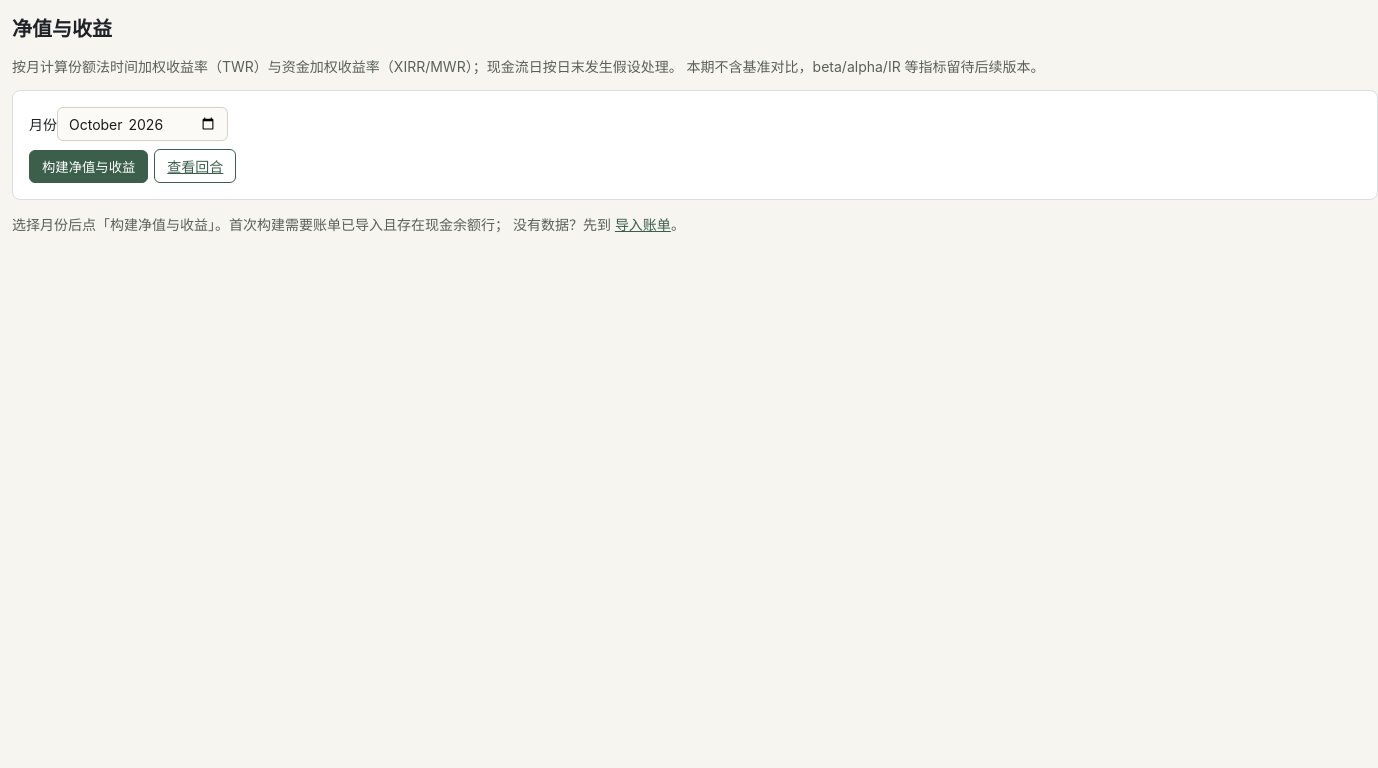
Scenario: Nav 净值与收益页 › 存在阻断点时才展示阻断列
Click the button "构建净值与收益": point(89, 166) [29,150,148,183]
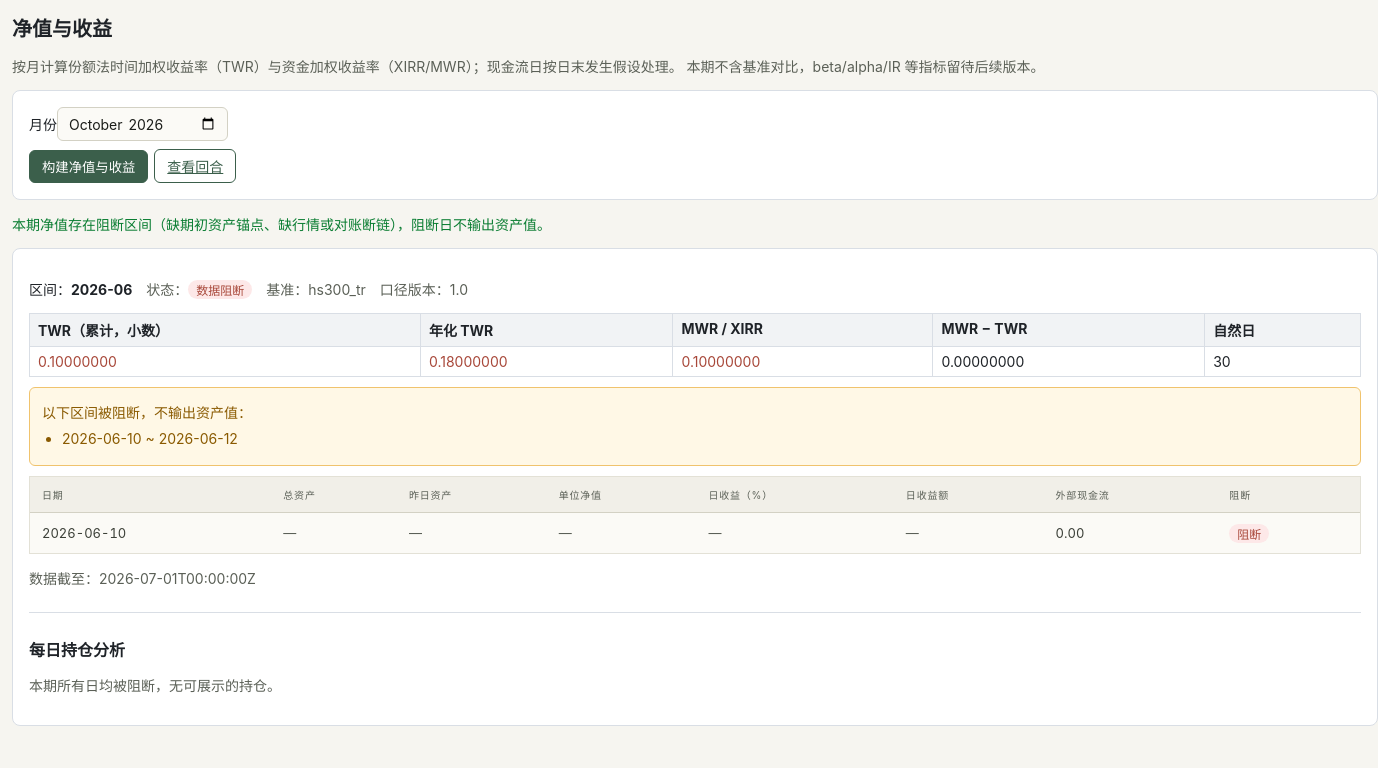
Result: the element with test id "nav-result" is shown
